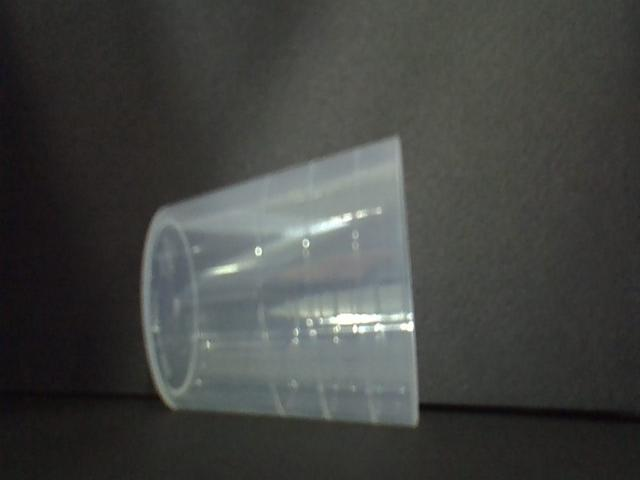cup: (137, 134, 428, 430)
